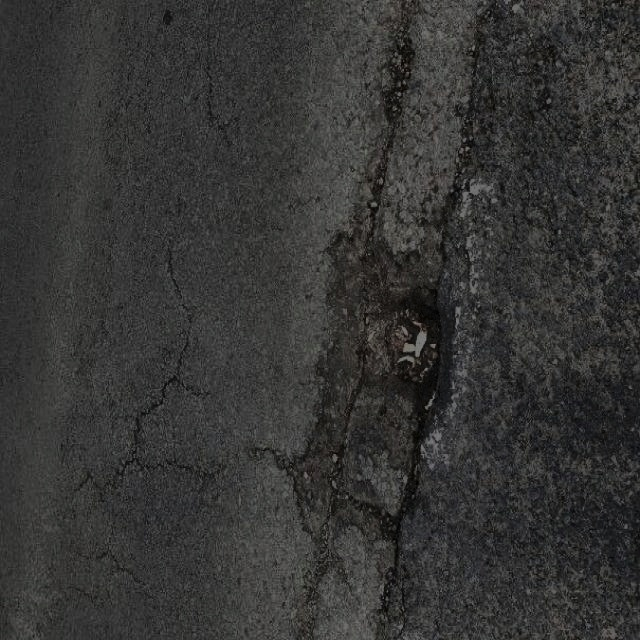Pothole: (284, 210, 460, 567)
